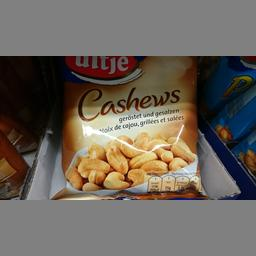nuts: (60, 56, 206, 199)
